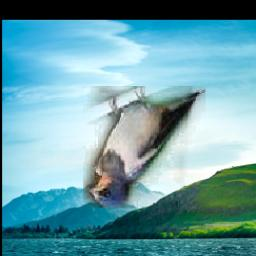Swallow: (83, 87, 205, 209)
